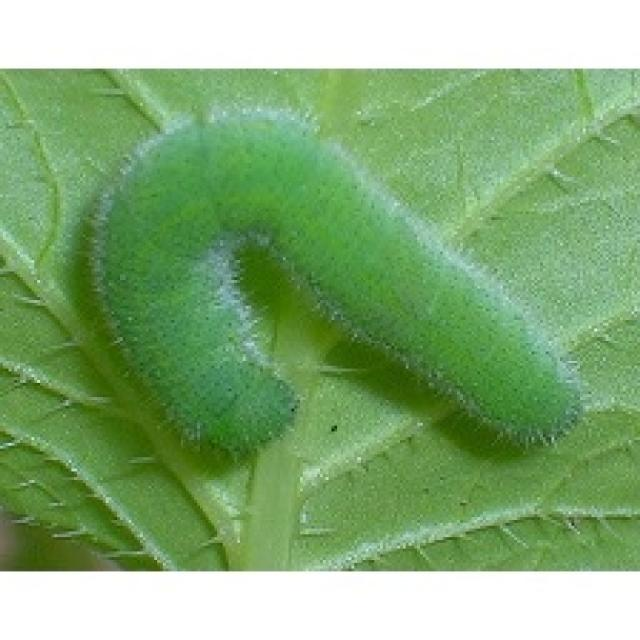Cabbage-worm: (67, 91, 603, 497)
